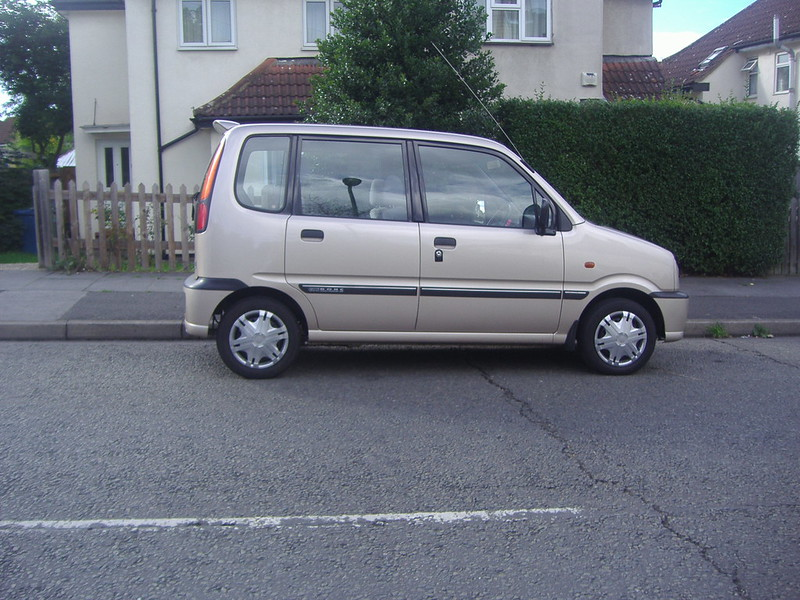car: (180, 114, 691, 382)
